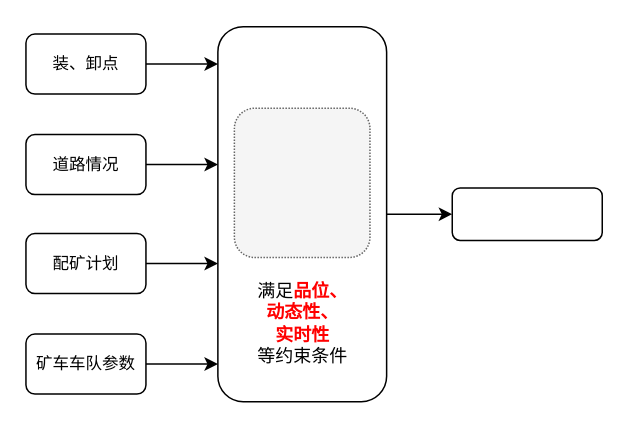
Some shapes in this 630 by 428 pixel diagram are drawn without their labels. Here are the shapes that lost their labels. From the top down, the centre of each, then its label:
At (x=301, y=182): "以 装卸点设备作业量最大化 为目标".
At (x=526, y=213): "车队任务分配情况".
